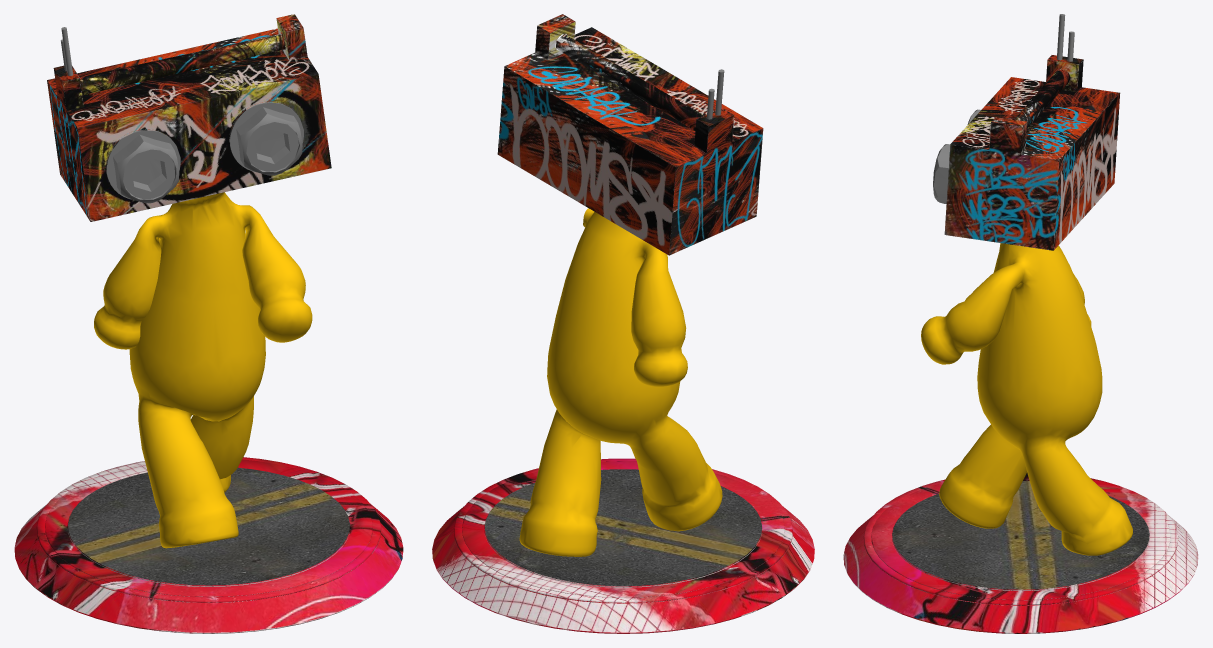
3 views of the same model, side by side, from view 1: azimuth 30°, elevation 25°; view 2: azimuth 150°, elevation 25°; view 3: azimuth 270°, elevation 25° (orthographic). The views are drawn at different scales.
Size of the model in its own units: 1.45 by 2.2 by 1.45.
Materials: 5 (3 with a texture image).
